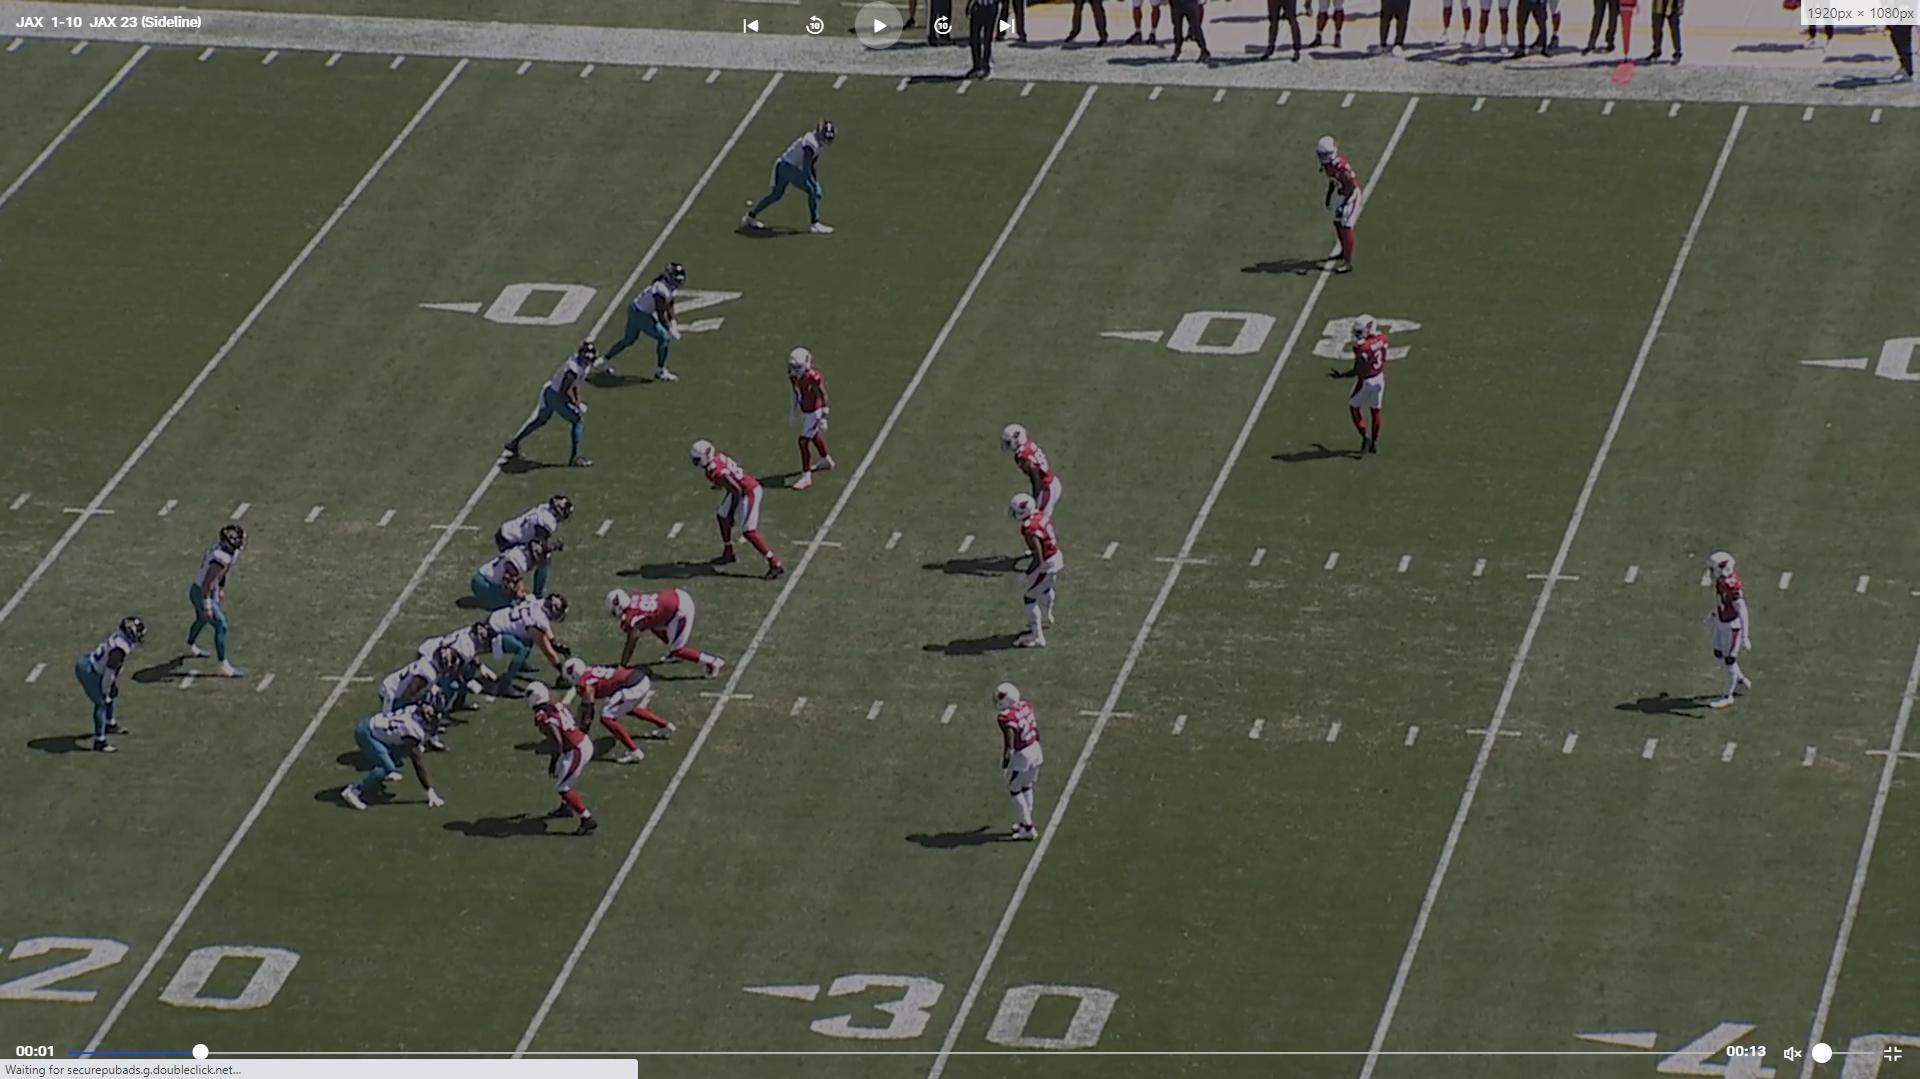player: (496, 337, 608, 478), (733, 115, 848, 243), (685, 435, 781, 580), (591, 255, 696, 386), (338, 708, 454, 819), (180, 517, 254, 684), (565, 657, 680, 761), (536, 681, 609, 841), (604, 588, 726, 681), (79, 612, 153, 757), (1005, 420, 1067, 577), (1697, 545, 1755, 711), (994, 679, 1051, 842), (1010, 491, 1067, 648), (481, 594, 572, 692), (786, 343, 844, 491), (1315, 131, 1372, 273), (383, 648, 458, 753), (419, 614, 490, 719), (1347, 322, 1396, 467), (474, 541, 554, 613), (497, 494, 575, 558)
